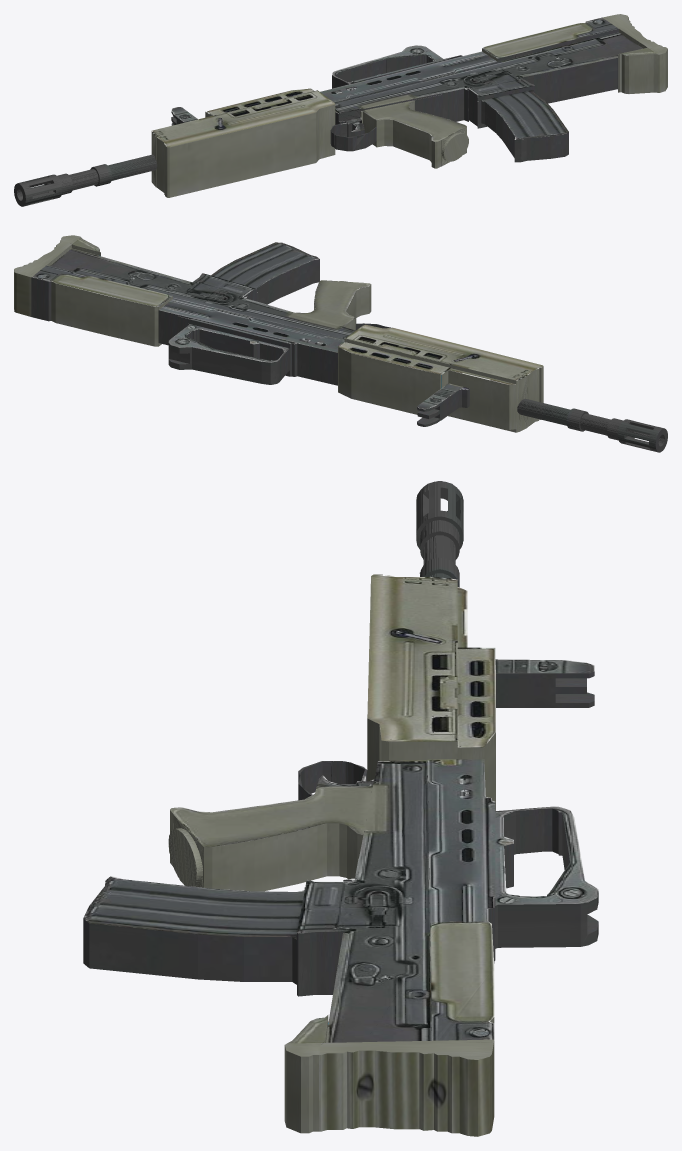
The picture shows the model from 3 angles, top to bottom: view 1: azimuth 30°, elevation 25°; view 2: azimuth 150°, elevation 25°; view 3: azimuth 270°, elevation 25°; orthographic projection. The views are drawn at different scales.
Parts seen in each view (by area): view 1: Node #0; view 2: Node #0; view 3: Node #0.
Boxes of the visible parts, left/top/right/bottom form: Node #0: left=14, top=14, right=667, bottom=206; Node #0: left=14, top=235, right=667, bottom=452; Node #0: left=83, top=481, right=598, bottom=1136.
Size of the model in its own units: 0.1795 by 0.014 by 0.065.
Materials: 176 (173 with a texture image).
